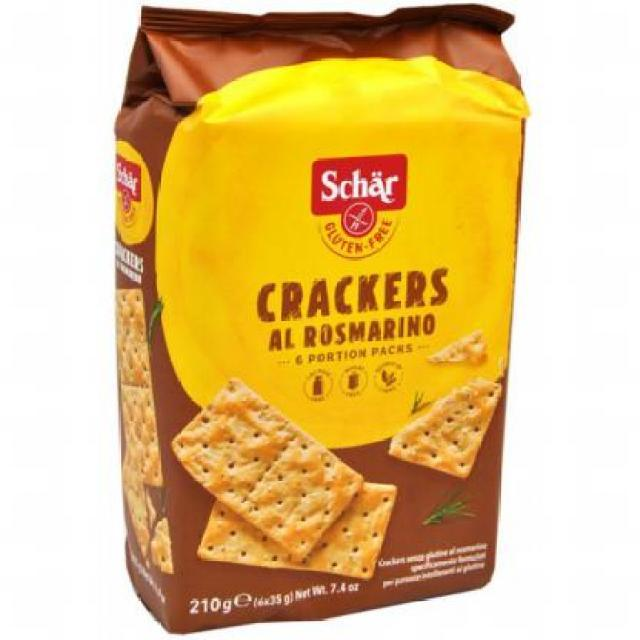Cracker: (97, 12, 537, 626)
